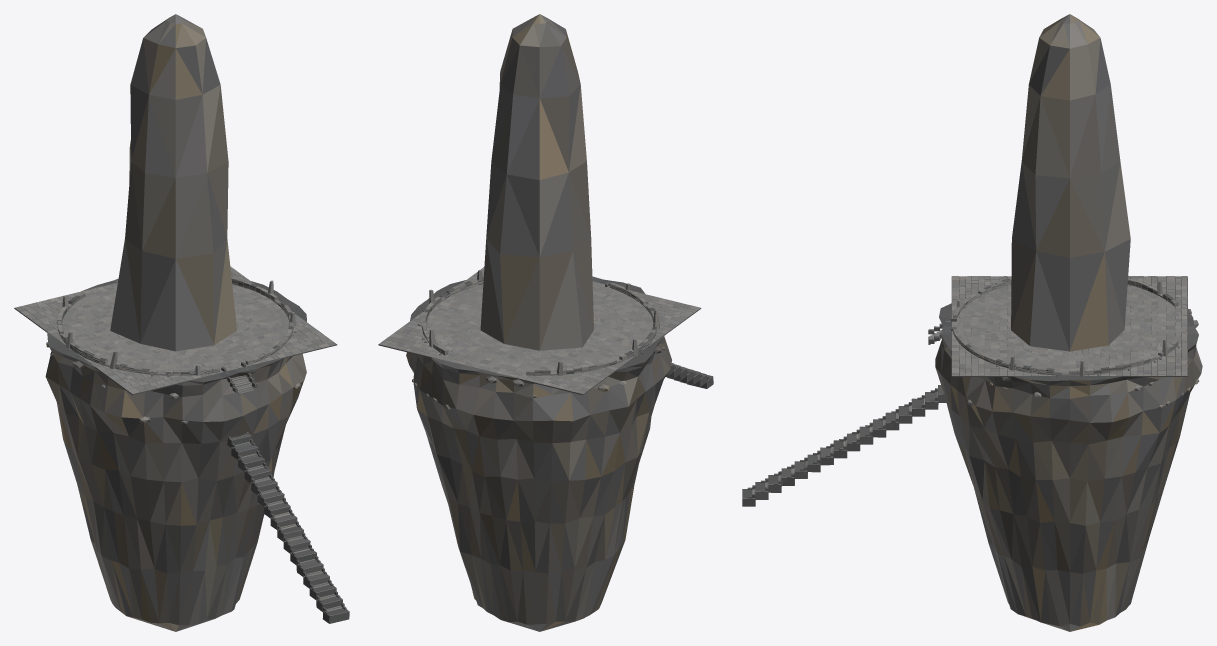
The model's file is throne_court_lowpoly.glb.
3 renders of one model, left to right at view 1: azimuth 30°, elevation 25°; view 2: azimuth 150°, elevation 25°; view 3: azimuth 270°, elevation 25°, orthographic.
Visible parts, largest first — view 1: KCliff, KSpire1, APFloor, KFloor, KStairsLong, KWall, KStairs; view 2: KCliff, KSpire1, APFloor, KFloor, KWall, KStairsLong, KMenhirs; view 3: KCliff, KSpire1, APFloor, KFloor, KStairsLong, KWall.
Part boxes in pixels (<box>): KCliff: <box>45,276,306,631</box>; KSpire1: <box>110,14,236,351</box>; APFloor: <box>14,266,337,395</box>; KFloor: <box>64,285,288,371</box>; KStairsLong: <box>227,432,349,623</box>; KWall: <box>57,277,296,377</box>; KStairs: <box>221,362,257,394</box>; KCliff: <box>406,276,671,631</box>; KSpire1: <box>480,14,593,350</box>; APFloor: <box>378,267,701,394</box>; KFloor: <box>427,284,651,372</box>; KWall: <box>417,278,657,375</box>; KStairsLong: <box>666,363,713,388</box>; KMenhirs: <box>429,270,659,375</box>; KCliff: <box>935,278,1202,631</box>; KSpire1: <box>1011,14,1130,351</box>; APFloor: <box>951,276,1187,376</box>; KFloor: <box>957,285,1181,372</box>; KStairsLong: <box>742,385,947,506</box>; KWall: <box>953,277,1179,377</box>.
Size of the model in its own units: 70.49 by 182 by 123.
